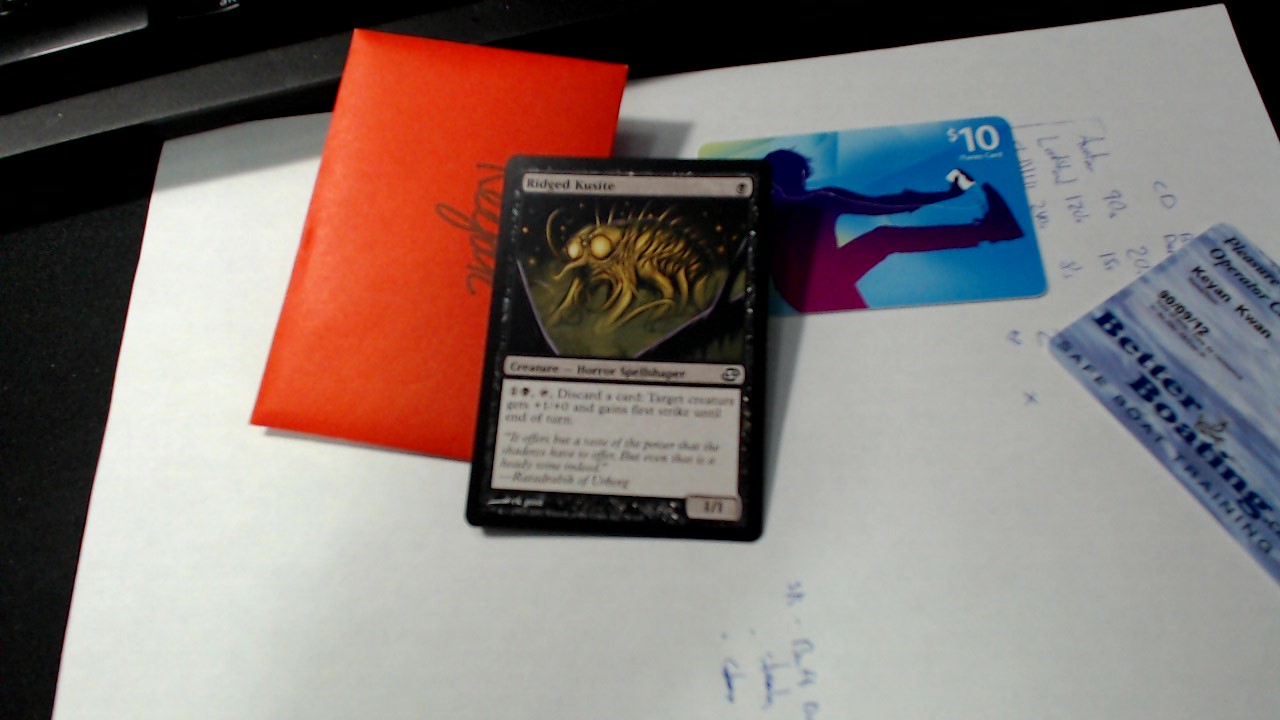MTG Card: (452, 137, 789, 555)
